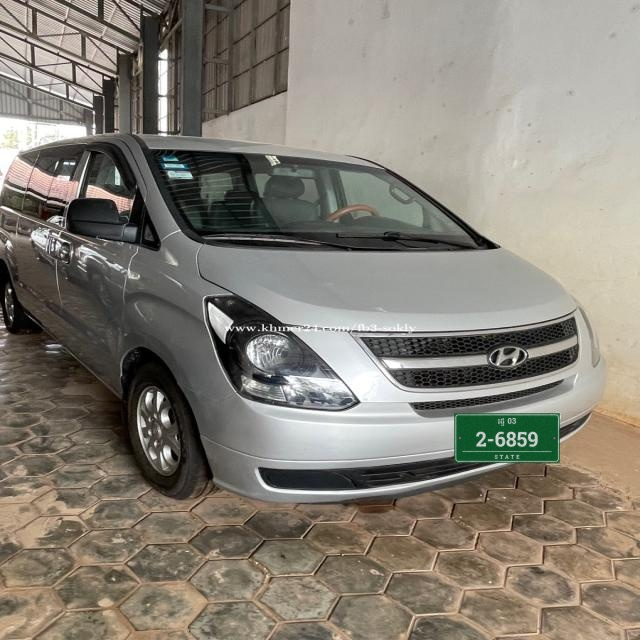Plate Number: (454, 414, 561, 464)
